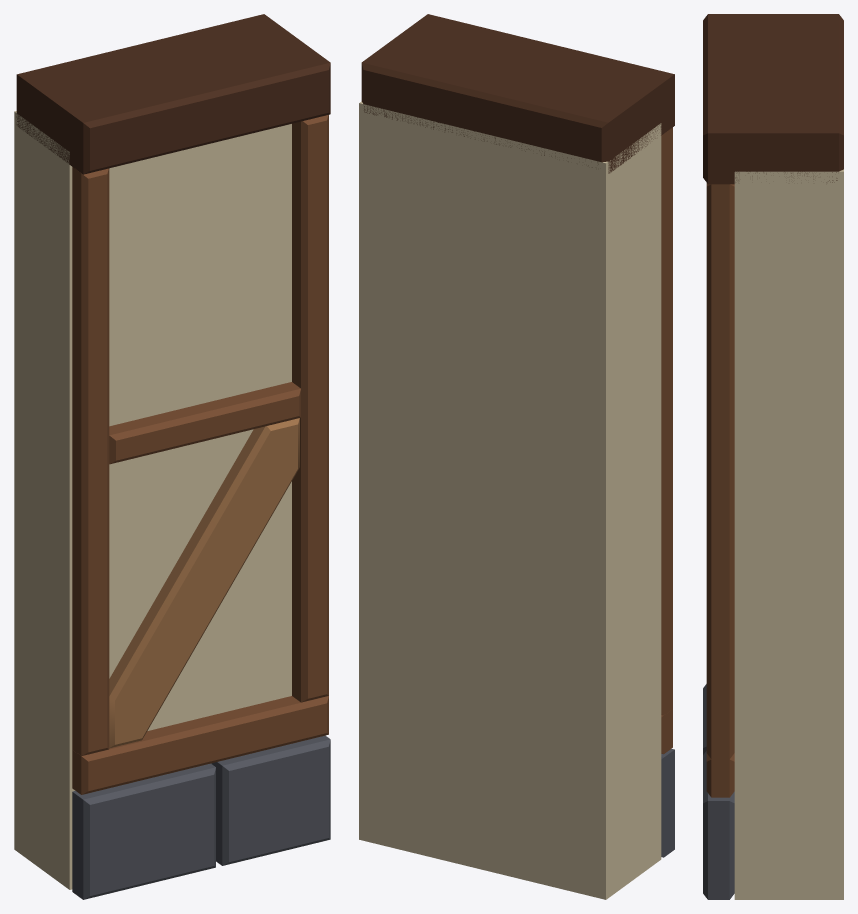
Rendered from WallStraight_08.glb.
The picture shows the model from 3 angles, left to right: view 1: azimuth 30°, elevation 25°; view 2: azimuth 150°, elevation 25°; view 3: azimuth 270°, elevation 25°; orthographic projection.
Visible parts, largest first — view 1: WallStraight_08; view 2: WallStraight_08; view 3: WallStraight_08.
Boxes of the visible parts, x1=… form: WallStraight_08: x1=14, y1=14, x2=330, y2=899; WallStraight_08: x1=359, y1=14, x2=674, y2=899; WallStraight_08: x1=703, y1=14, x2=843, y2=899.
Size of the model in its own units: 4 by 12 by 2.
